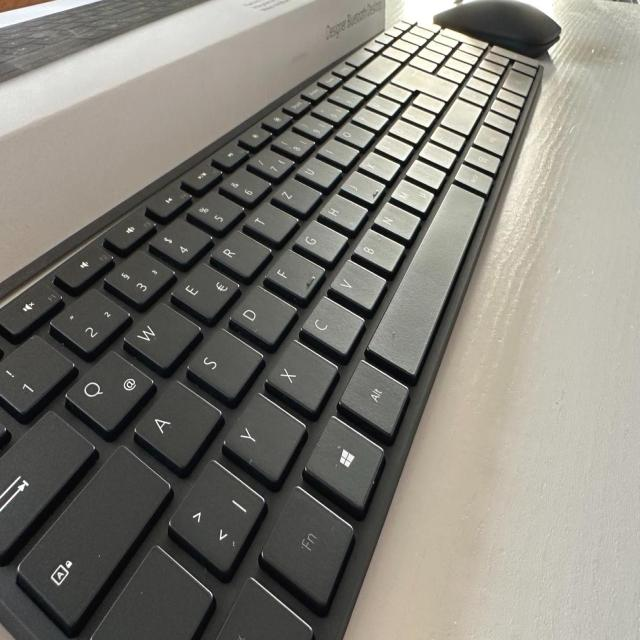1: (0, 328, 76, 414)
2: (47, 284, 131, 352)
3: (103, 245, 176, 304)
4: (148, 214, 213, 264)
5: (185, 188, 244, 231)
6: (219, 164, 270, 203)
7: (246, 144, 294, 179)
8: (270, 129, 315, 158)
9: (291, 114, 333, 140)
a: (130, 375, 223, 471)
alt-left: (336, 356, 410, 436)
altgr-right: (455, 161, 493, 193)
b: (352, 224, 405, 272)
c: (299, 292, 365, 357)
d: (226, 282, 297, 346)
e: (170, 259, 241, 318)
f: (262, 246, 325, 299)
g: (291, 216, 348, 264)
h: (318, 192, 368, 229)
i: (318, 135, 358, 166)
j: (340, 168, 386, 205)
k: (358, 149, 400, 182)
keyboard: (0, 9, 543, 640)
l: (375, 132, 414, 162)
less: (166, 452, 269, 572)
m: (390, 177, 435, 216)
n: (372, 199, 421, 240)
o: (335, 119, 374, 147)
q: (60, 346, 156, 434)
r: (209, 226, 272, 277)
s: (182, 324, 263, 400)
shift-left: (88, 539, 214, 640)
shift-lock: (16, 442, 179, 631)
space: (366, 182, 487, 379)
strg-right: (472, 121, 509, 154)
t: (243, 198, 298, 242)
tab: (0, 409, 97, 554)
u: (295, 155, 342, 188)
v: (327, 255, 386, 311)
w: (121, 297, 202, 369)
x: (263, 333, 338, 413)
y: (220, 387, 306, 483)
z: (270, 176, 322, 216)
